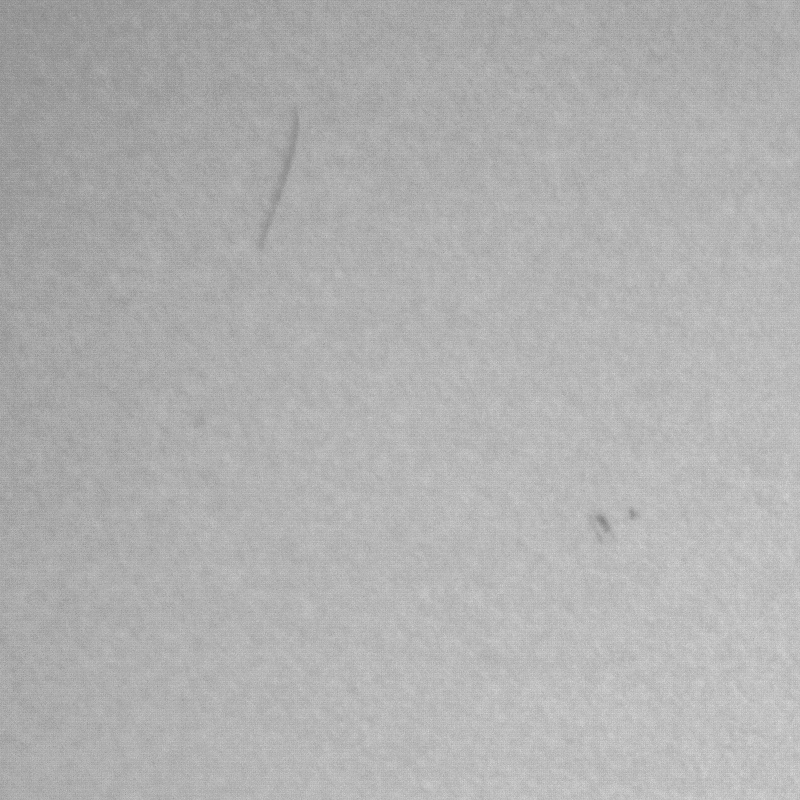defect: (256, 105, 297, 252), (581, 500, 614, 545), (622, 507, 645, 528)
